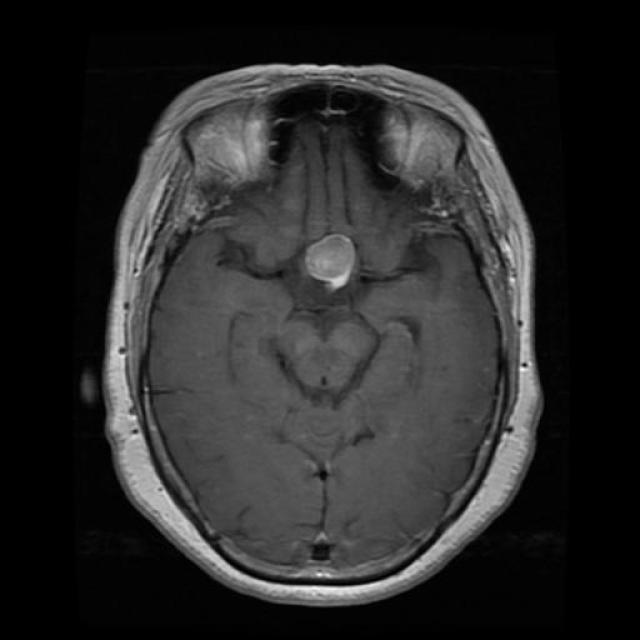pituitary: (276, 212, 382, 310)
